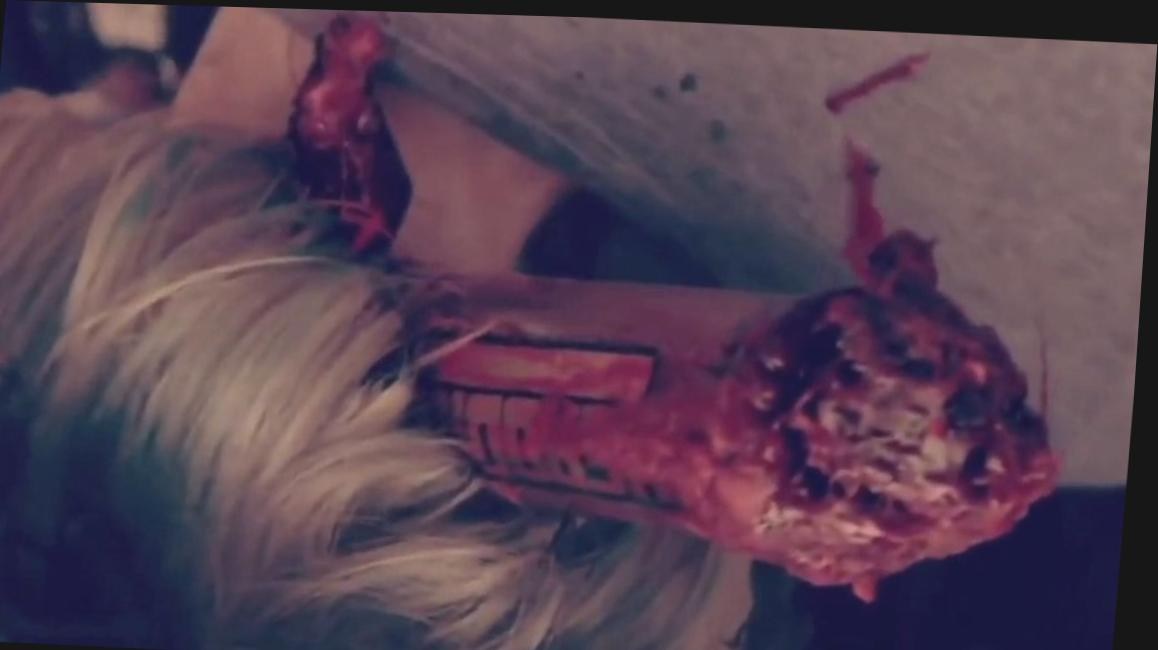Fire: (288, 15, 1069, 590), (828, 46, 932, 109)
